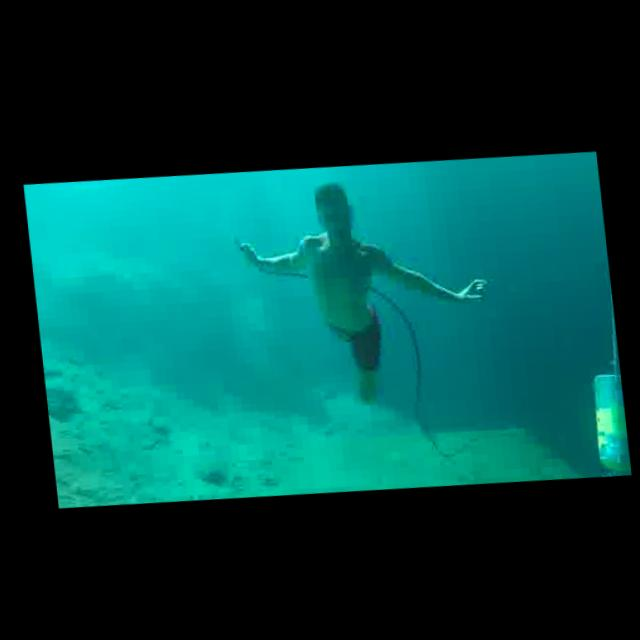human: (222, 160, 501, 424)
